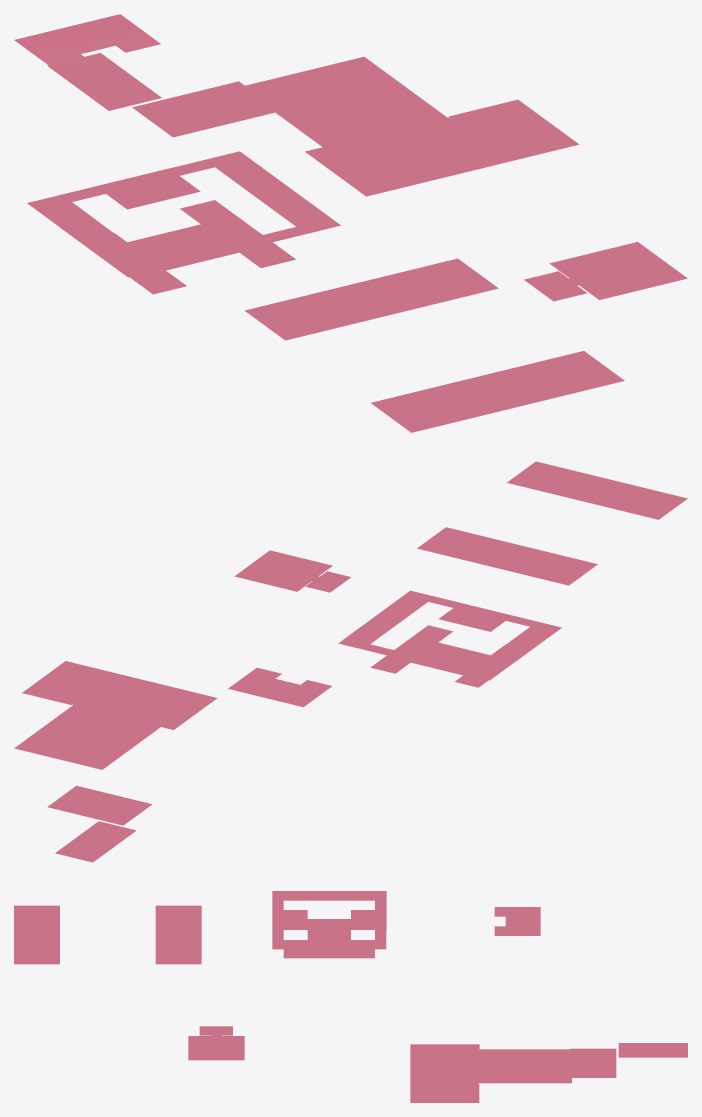
Rendered from unity_nav_floor2.fbx.
The picture shows the model from 3 angles, top to bottom: view 1: azimuth 30°, elevation 25°; view 2: azimuth 150°, elevation 25°; view 3: azimuth 270°, elevation 25°; orthographic projection. The views are drawn at different scales.
Parts seen in each view (by area): view 1: Nav_mesh.003, Nav_mesh.006, Nav_mesh.008, Nav_mesh.009, Nav_mesh.007, Nav_mesh.002, Nav_mesh.005, Nav_mesh.004, Nav_mesh.001; view 2: Nav_mesh.003, Nav_mesh.006, Nav_mesh.009, Nav_mesh.008, Nav_mesh.007, Nav_mesh.002, Nav_mesh.004, Nav_mesh.005, Nav_mesh.001; view 3: Nav_mesh.003, Nav_mesh.006, Nav_mesh.008, Nav_mesh.009, Nav_mesh.005, Nav_mesh.007, Nav_mesh.002, Nav_mesh.004, Nav_mesh.001.
Part boxes in pixels (<box>): Nav_mesh.003: <box>241,57,578,196</box>; Nav_mesh.006: <box>27,151,340,277</box>; Nav_mesh.008: <box>244,258,498,340</box>; Nav_mesh.009: <box>371,351,624,432</box>; Nav_mesh.007: <box>524,242,687,301</box>; Nav_mesh.002: <box>132,81,274,137</box>; Nav_mesh.005: <box>115,200,295,294</box>; Nav_mesh.004: <box>14,14,160,69</box>; Nav_mesh.001: <box>48,53,161,110</box>; Nav_mesh.003: <box>14,661,217,769</box>; Nav_mesh.006: <box>338,590,561,680</box>; Nav_mesh.009: <box>507,461,687,519</box>; Nav_mesh.008: <box>417,527,597,585</box>; Nav_mesh.007: <box>234,550,350,592</box>; Nav_mesh.002: <box>47,785,151,825</box>; Nav_mesh.004: <box>228,667,332,707</box>; Nav_mesh.005: <box>370,625,505,687</box>; Nav_mesh.001: <box>55,821,136,862</box>; Nav_mesh.003: <box>410,1044,571,1102</box>; Nav_mesh.006: <box>272,891,386,949</box>; Nav_mesh.008: <box>155,905,201,964</box>; Nav_mesh.009: <box>14,905,59,964</box>; Nav_mesh.005: <box>283,919,374,958</box>; Nav_mesh.007: <box>188,1026,244,1060</box>; Nav_mesh.002: <box>570,1048,616,1077</box>; Nav_mesh.004: <box>494,907,540,935</box>; Nav_mesh.001: <box>618,1043,687,1057</box>.
Size of the model in its own units: 48277 by 13020 by 87345.
